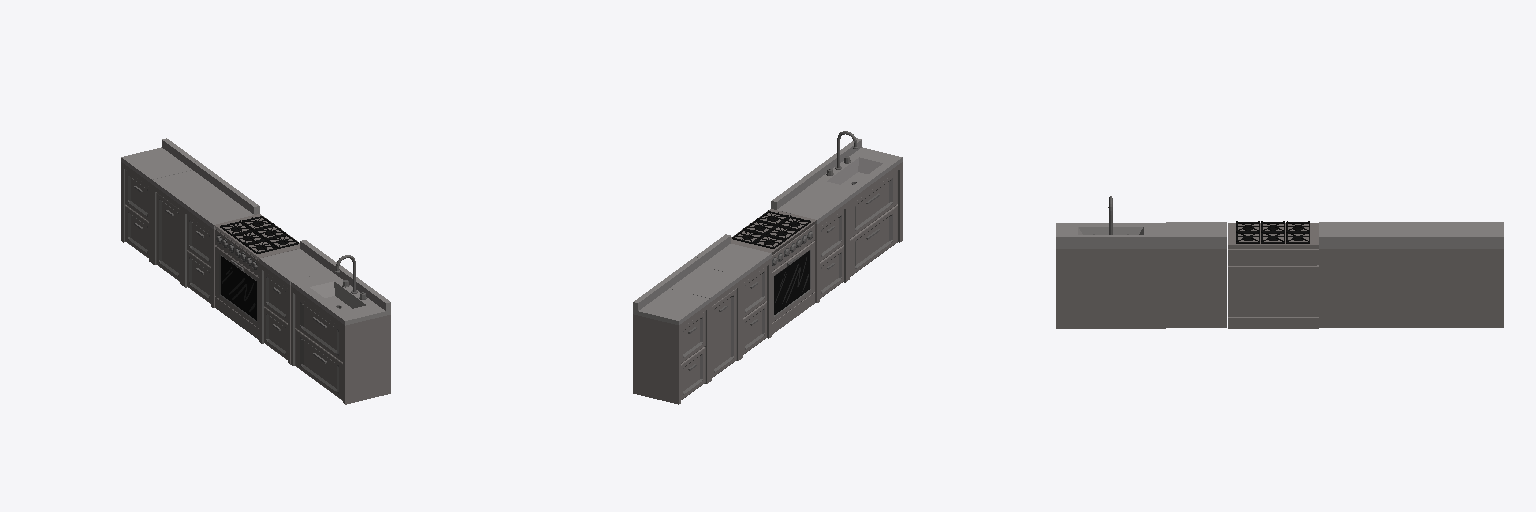
3 renders of one model, left to right at view 1: azimuth 30°, elevation 25°; view 2: azimuth 150°, elevation 25°; view 3: azimuth 270°, elevation 25°, orthographic.
Visible parts, largest first — view 1: Lavabo, Estufa, Mesa_1.004, Mesa_1.002, Mesa_1.001, Mesa_2.001; view 2: Mesa_1.001, Lavabo, Estufa, Mesa_1.002, Mesa_2.001, Mesa_1.004; view 3: Lavabo, Estufa, Mesa_1.001, Mesa_2.001, Mesa_1.002, Mesa_1.004.
Part boxes in pixels (bbox=[...]): Lavabo: bbox=[291, 255, 390, 404]; Estufa: bbox=[214, 214, 299, 339]; Mesa_1.004: bbox=[183, 183, 259, 307]; Mesa_1.002: bbox=[259, 240, 334, 364]; Mesa_1.001: bbox=[121, 138, 197, 262]; Mesa_2.001: bbox=[152, 161, 227, 285]; Mesa_1.001: bbox=[633, 280, 709, 404]; Lavabo: bbox=[803, 131, 902, 279]; Estufa: bbox=[731, 209, 816, 334]; Mesa_1.002: bbox=[771, 178, 847, 302]; Mesa_2.001: bbox=[664, 257, 740, 381]; Mesa_1.004: bbox=[695, 234, 771, 358]; Lavabo: bbox=[1056, 196, 1165, 328]; Estufa: bbox=[1228, 221, 1318, 328]; Mesa_1.001: bbox=[1442, 222, 1503, 327]; Mesa_2.001: bbox=[1380, 222, 1441, 327]; Mesa_1.002: bbox=[1166, 222, 1226, 327]; Mesa_1.004: bbox=[1319, 222, 1379, 327].
Bounding box in the file's own units: 2.63 × 6.59 × 21.81.
6 materials, 4 textured.